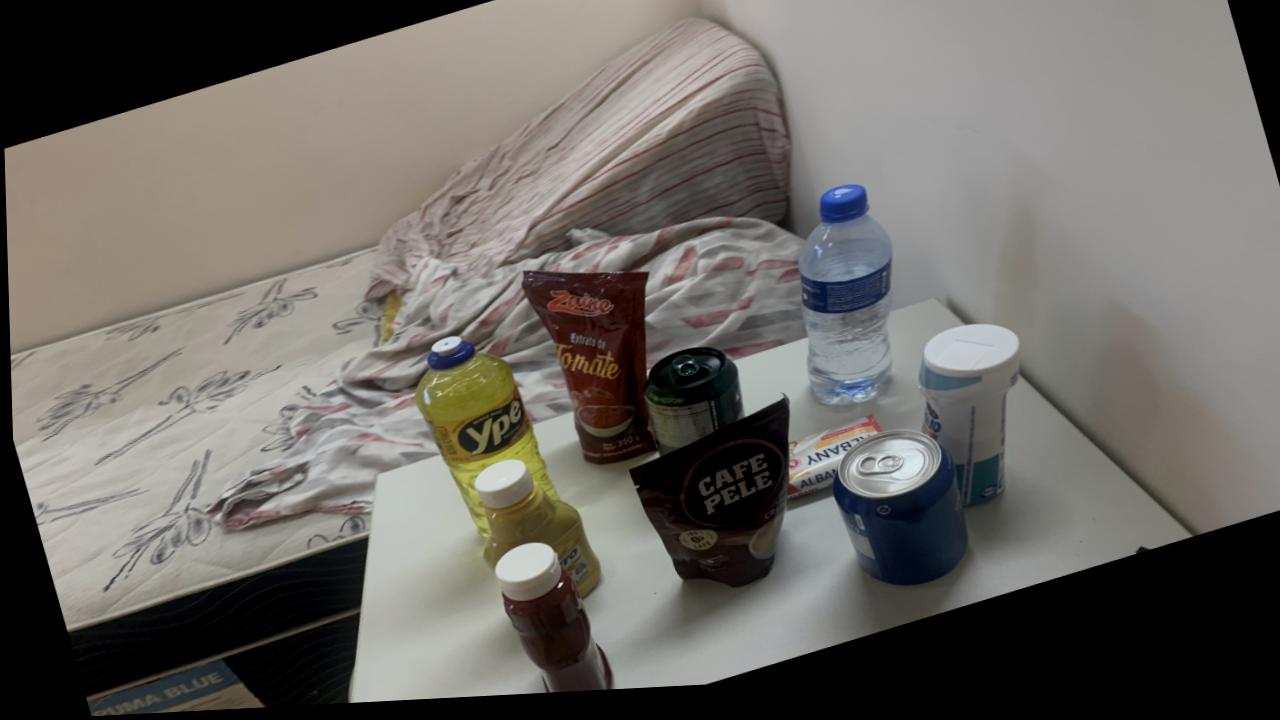Cleaner-Cleanup_Items: (916, 334, 1018, 518)
Coffee-Pantry_Items: (625, 406, 787, 595)
Detergent-Cleanup_Items: (412, 340, 554, 542)
Guarana_Can-Drinks: (642, 354, 741, 461)
Ketchup-Pantry_Items: (491, 548, 610, 699)
Mustard-Pantry_Items: (472, 465, 597, 603)
Soap-Cleanup_Items: (784, 424, 878, 508)
Tomato_Sauce-Pantry_Items: (519, 276, 653, 471)
Tonic-Drinks: (829, 439, 965, 595)
Water_Bottle-Drinks: (795, 193, 892, 414)
